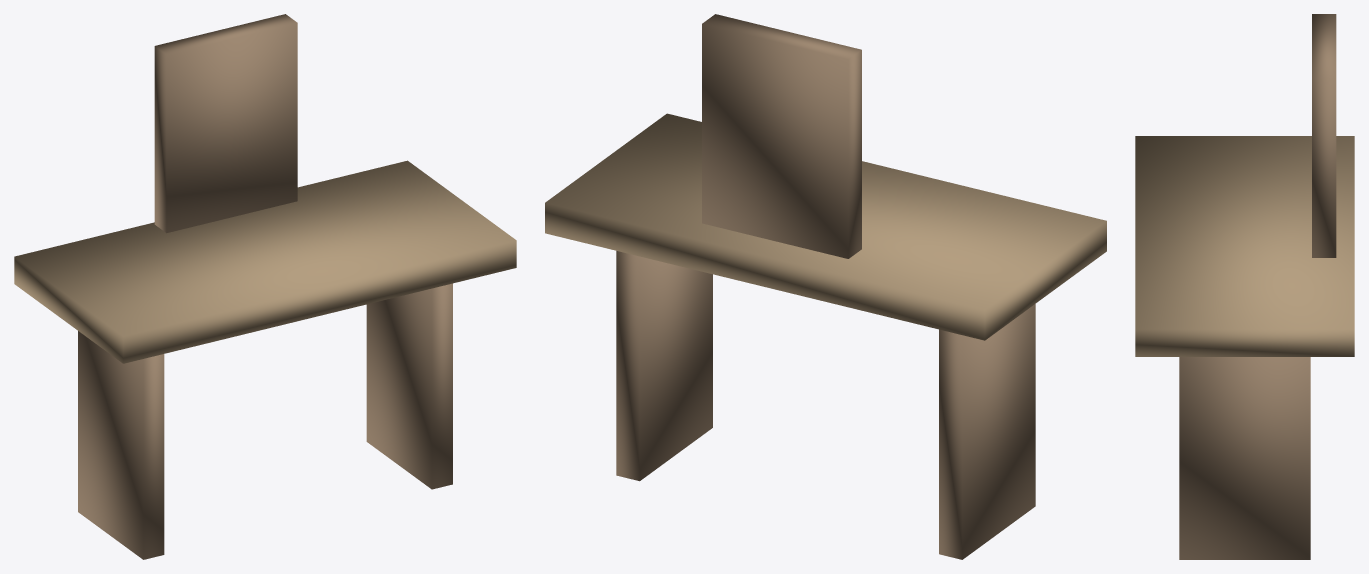
File: altar_table.glb
3 views of the same model, side by side, from view 1: azimuth 30°, elevation 25°; view 2: azimuth 150°, elevation 25°; view 3: azimuth 270°, elevation 25° (orthographic). The views are drawn at different scales.
Visible parts, largest first — view 1: world; view 2: world; view 3: world.
Boxes of the visible parts, x1,y1,x2,y2 form: world: [14, 14, 516, 559]; world: [545, 14, 1106, 559]; world: [1135, 14, 1354, 559].
Bounding box in the file's own units: 1.5 × 1.59 × 0.72.
